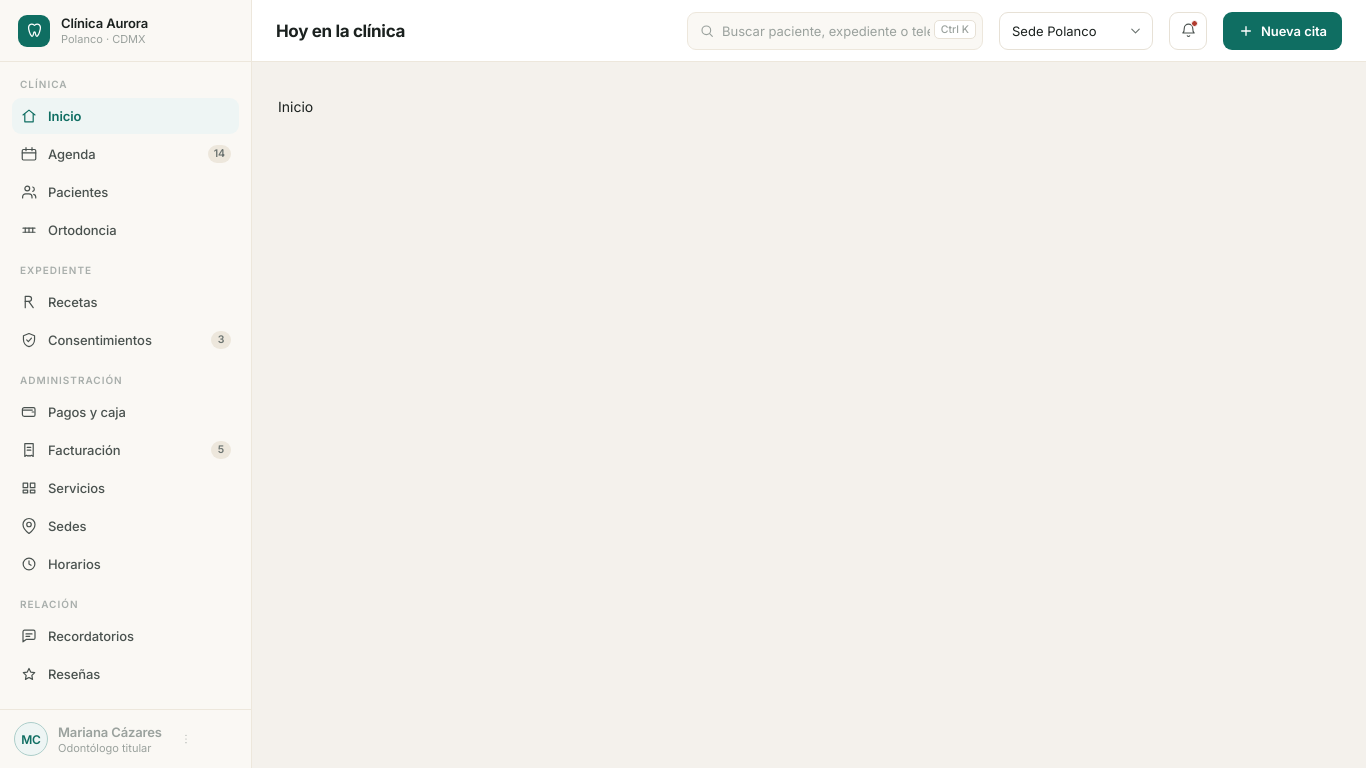
Test: <PanelShell /> › opens the new appointment modal from the topbar
Click the button "Nueva cita". click: (1282, 30)
box: top-left (1223, 12), bottom-right (1342, 50)
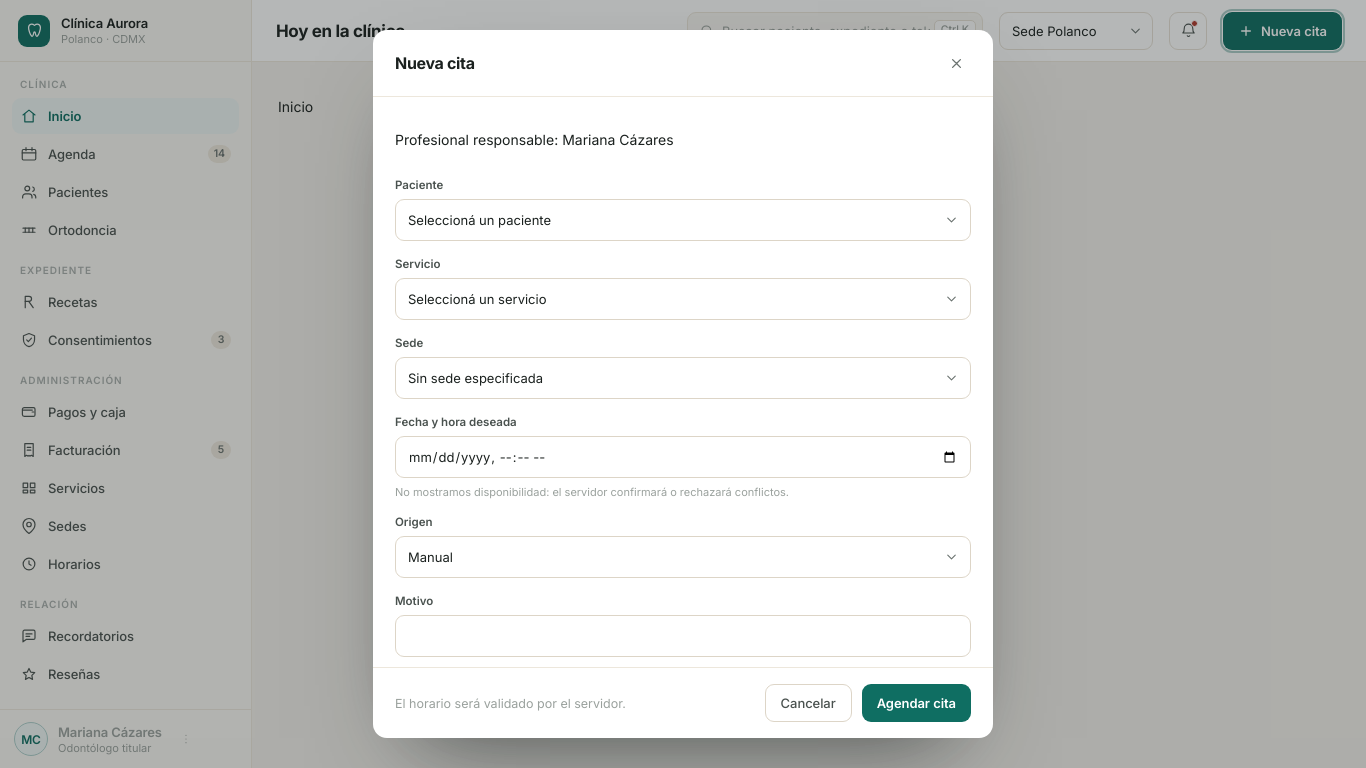
Check: the dialog "Nueva cita" is shown
